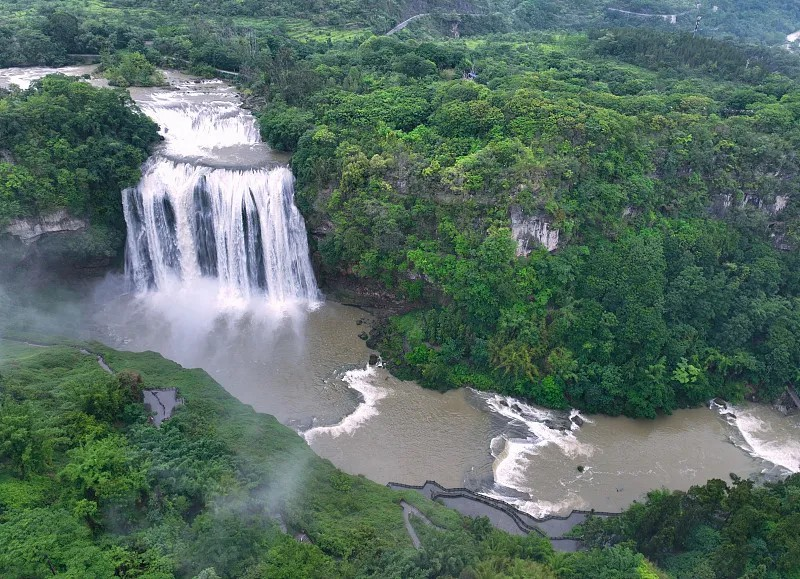Huangguoshu: (124, 107, 321, 305)
